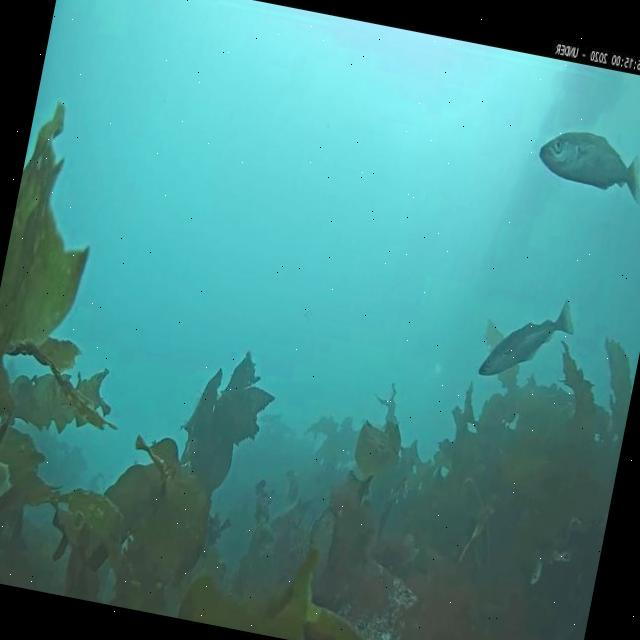fish: (477, 286, 579, 388), (531, 123, 640, 203)
